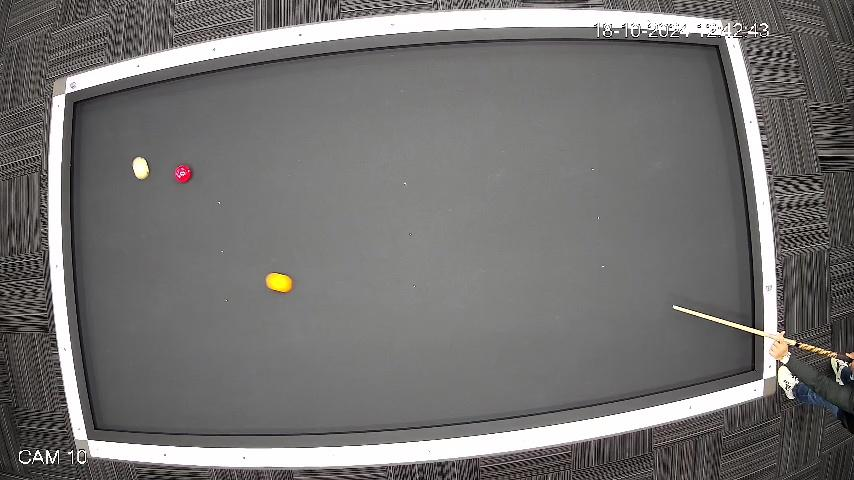Red: (173, 164, 194, 184)
White: (132, 156, 151, 182)
Yellow: (264, 272, 294, 293)
